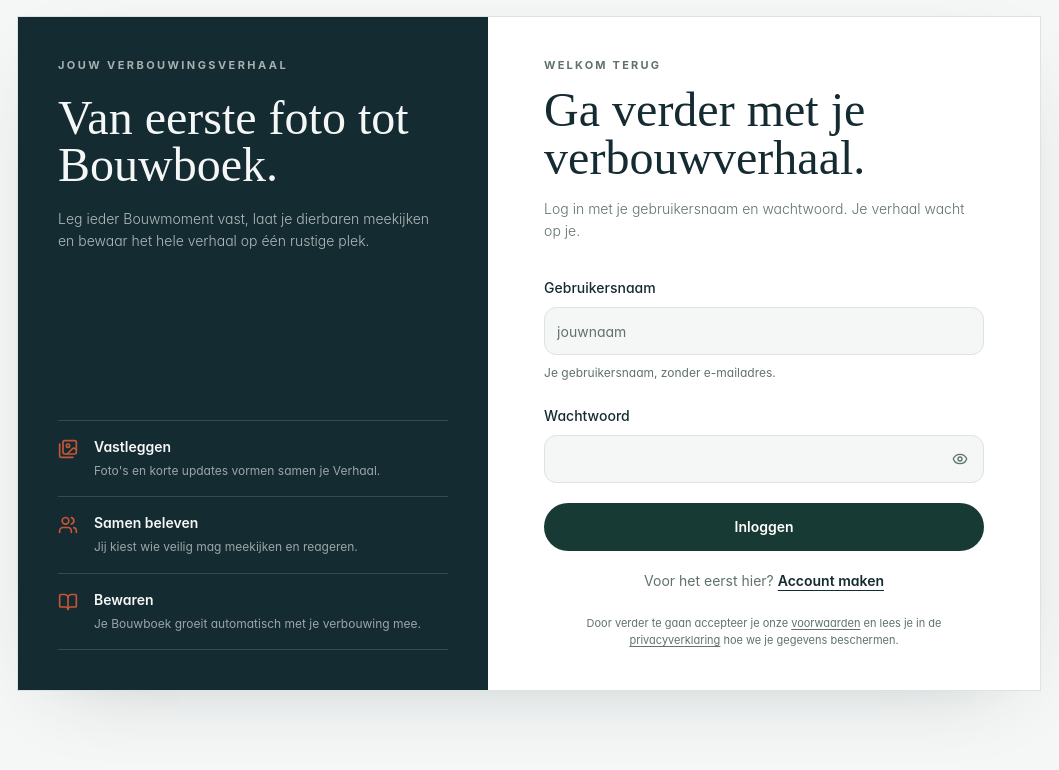
Scenario: username/password auth page › shows generic invalid credentials without echoing a provider message
The width and height of the screenshot is (1059, 770).
In the field labelled "Gebruikersnaam": (764, 331) [544,307,984,355], type "bouw-eigenaar"
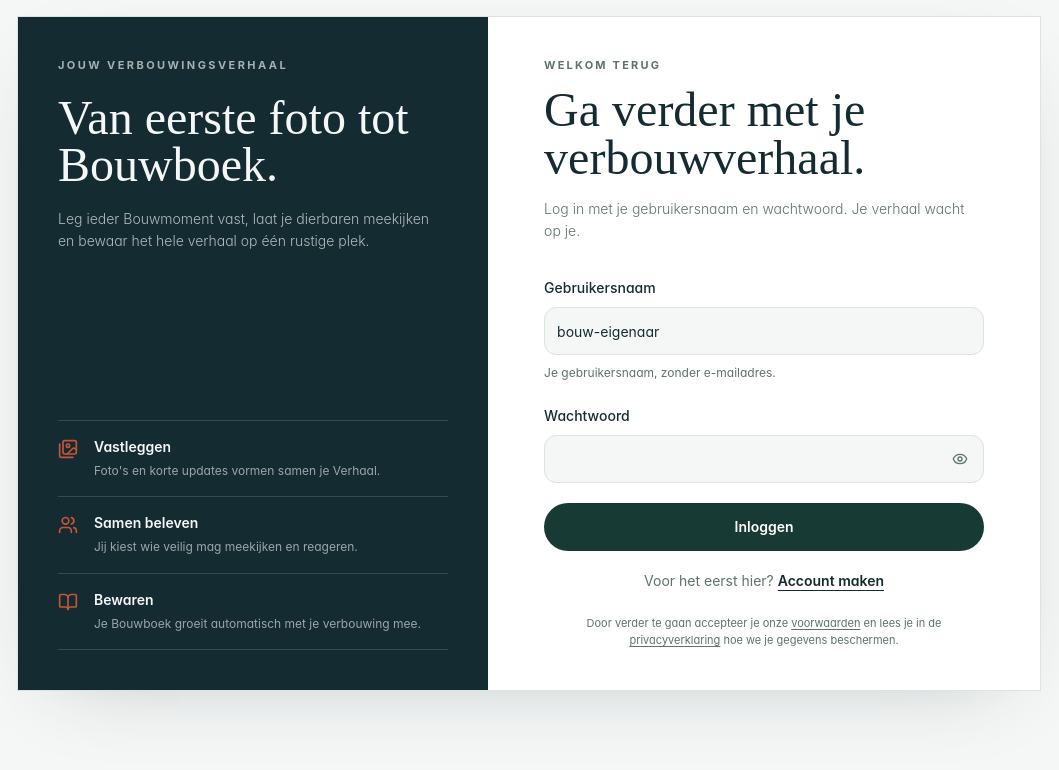
In the password field labelled "Wachtwoord": (764, 458) [544,434,984,482], type "Bouw!dag27"
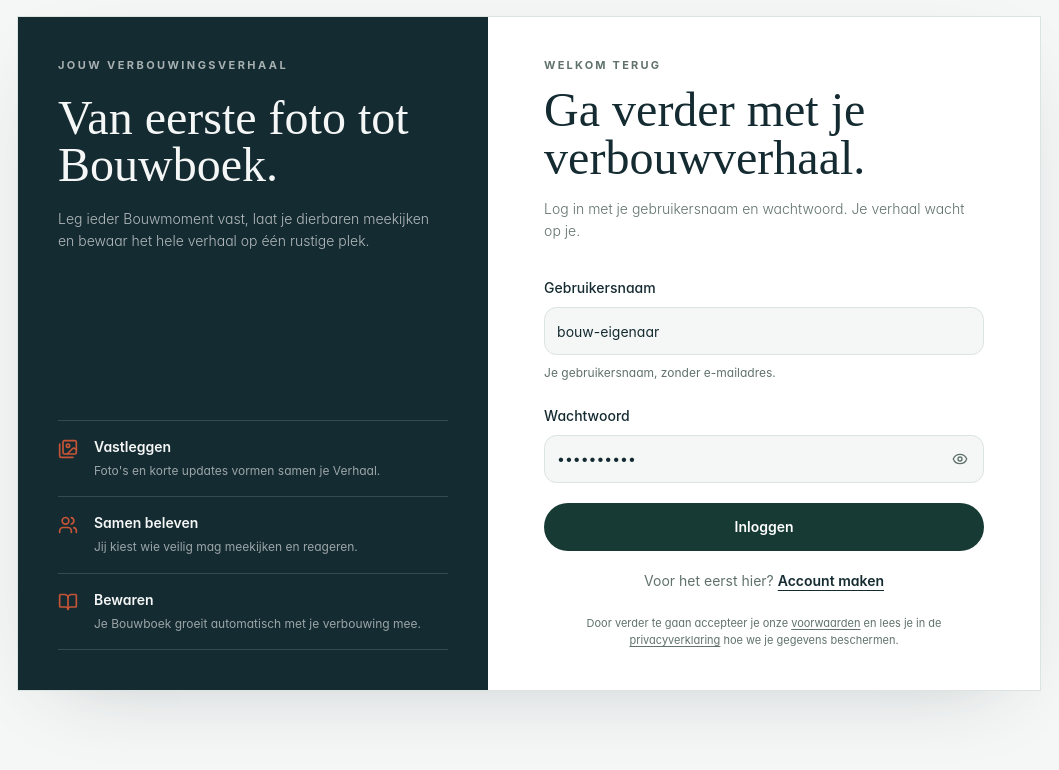
Submit the form "Inloggen", box [544,275,984,590]
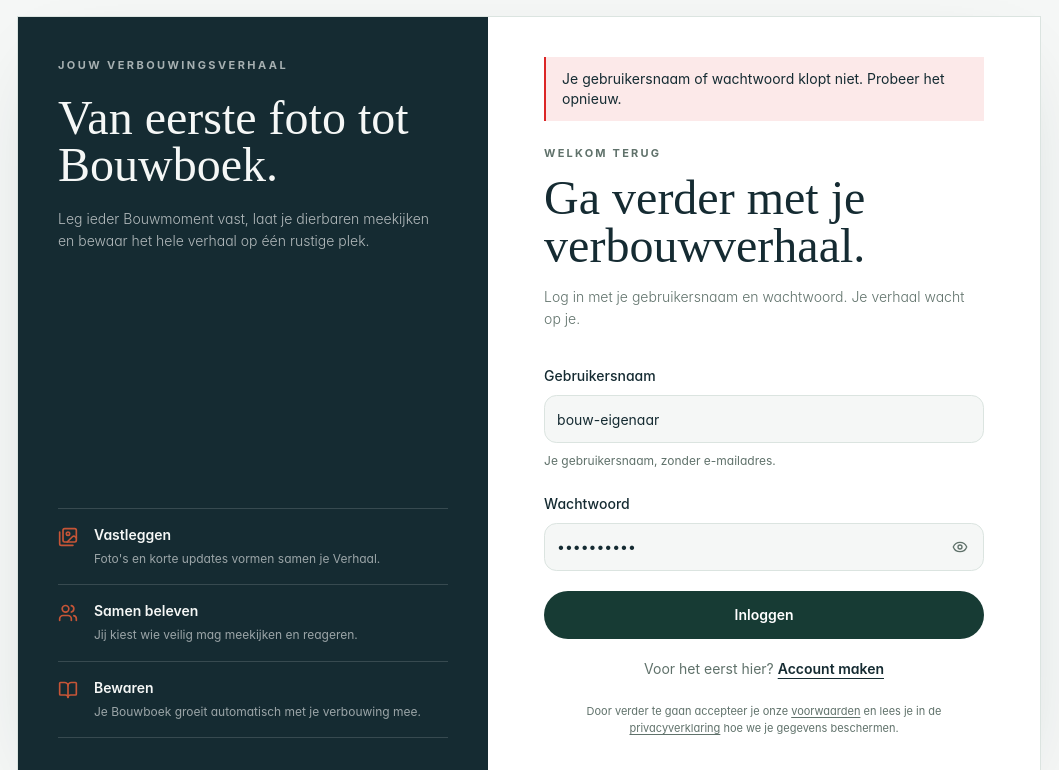
Check: the message shows "Je gebruikersnaam of wachtwoord klopt niet", box [562,70,945,107]
